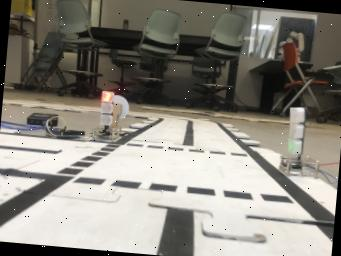street: (0, 117, 334, 256), (0, 117, 334, 256), (0, 117, 334, 256), (0, 117, 334, 256), (0, 117, 334, 256), (0, 117, 334, 256)
traffic_light: (276, 107, 319, 179), (276, 107, 319, 179), (276, 107, 319, 179), (276, 107, 319, 179), (276, 107, 319, 179), (276, 107, 319, 179), (91, 91, 119, 141), (91, 91, 119, 141), (91, 91, 119, 141), (91, 91, 119, 141), (91, 91, 119, 141), (91, 91, 119, 141)
